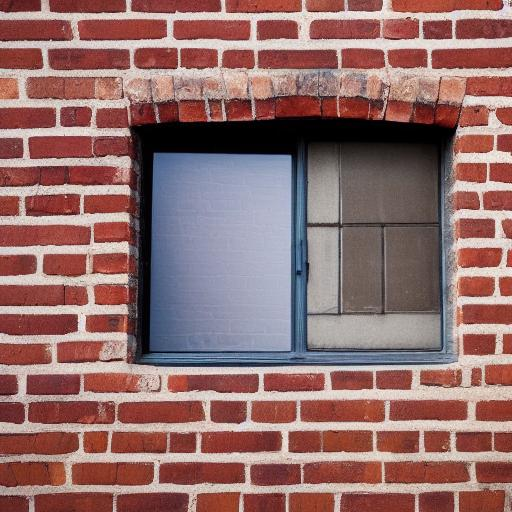Window: (120, 67, 471, 372)
